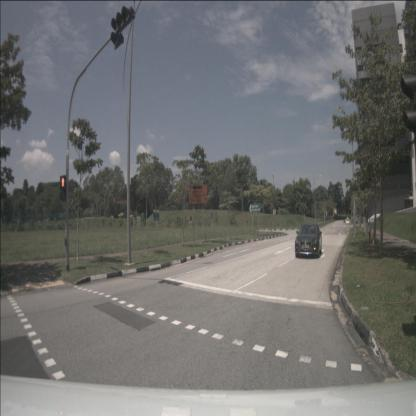vehicle-car: (295, 223, 322, 258), (346, 218, 350, 226)
